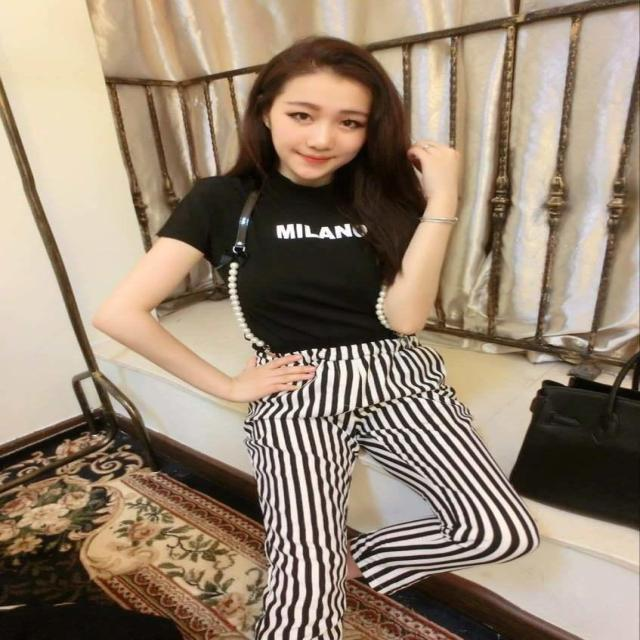short-sleeve-dress: (165, 165, 467, 352)
trousers: (234, 376, 546, 637)
